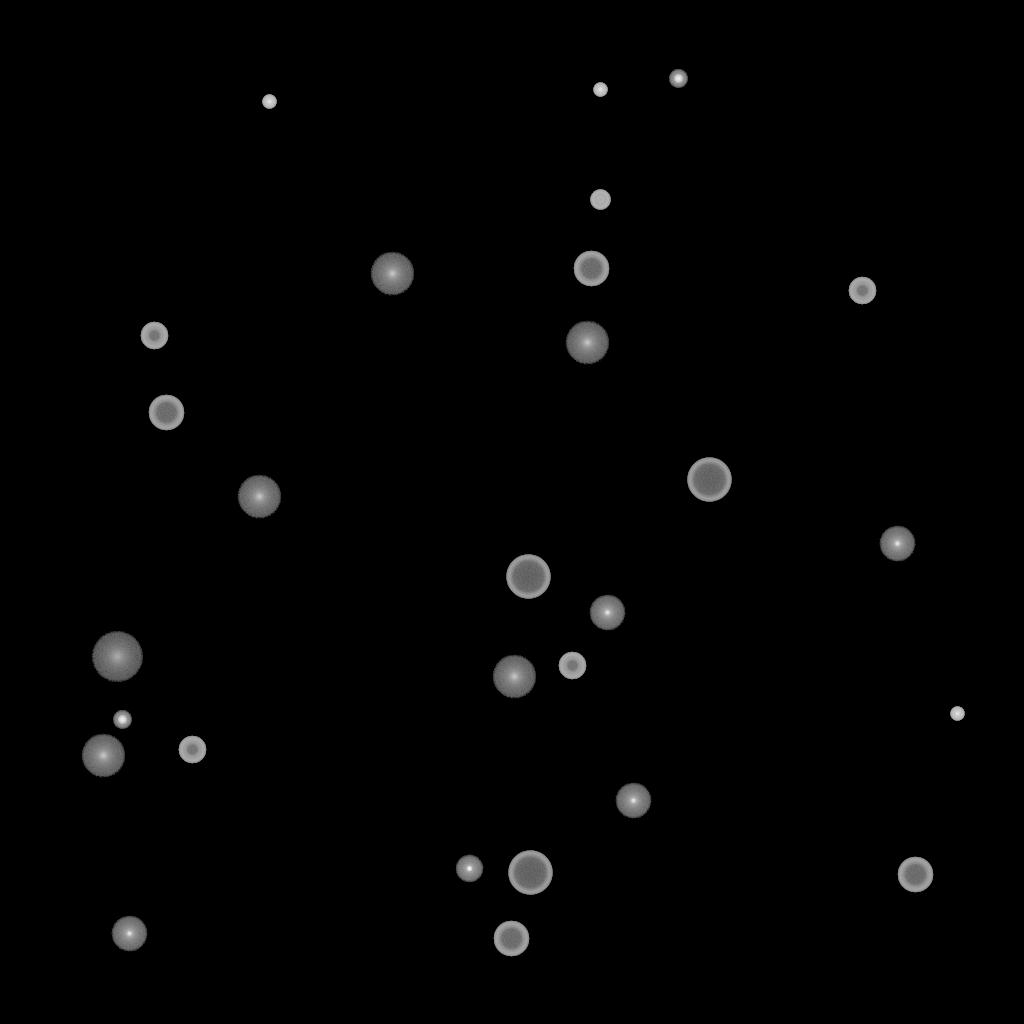depth:-10: (455, 855, 483, 883)
depth:-20: (669, 70, 687, 88), (113, 711, 131, 729)
depth:-30: (262, 95, 276, 109), (593, 83, 607, 97), (950, 707, 964, 721)
depth:-40: (590, 190, 610, 210)
depth:-50: (848, 277, 876, 305), (140, 322, 168, 350), (558, 652, 586, 680), (178, 736, 206, 764)
depth:-60: (897, 857, 933, 893), (148, 395, 184, 431), (493, 921, 529, 957), (573, 251, 609, 287)
depth:-70: (506, 555, 550, 599), (508, 851, 552, 895), (687, 458, 731, 502)
depth:0: (589, 595, 625, 631), (615, 783, 651, 819), (111, 916, 147, 952), (879, 526, 915, 562)
depth:10: (492, 655, 536, 699), (370, 252, 414, 296), (565, 321, 609, 365), (237, 475, 281, 519), (81, 734, 125, 778)
depth:20: (91, 632, 143, 682)
